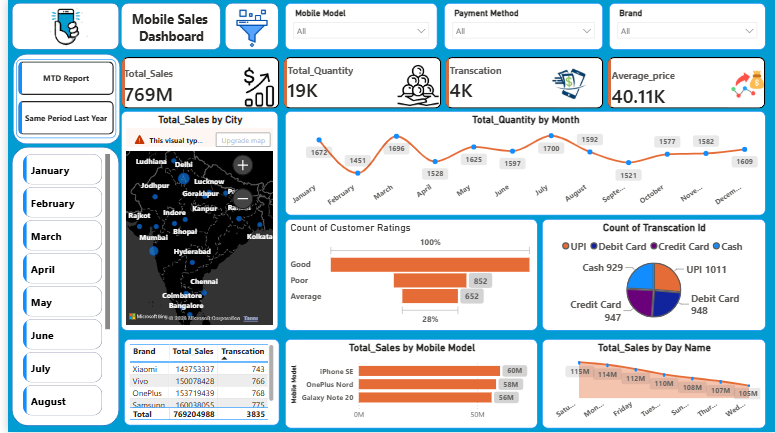

The dashboard page shown, as its layout file describes it:
{"tool":"powerbi","page":{"name":"Dashboard","canvas":[1280,720],"ordinal":0},"visuals":[{"type":"shape","box":[361.1,5.6,89.3,78],"z":0,"group":"g2"},{"type":"group","id":"g1","title":"Group 1","box":[7.1,5.7,178.6,83.6],"z":0},{"type":"shape","box":[7.1,5.7,178.6,77.7],"z":0,"group":"g1"},{"type":"image","box":[331.3,15,150.3,63.8],"z":1000,"group":"g2"},{"type":"shape","box":[8.5,89.3,178.6,150.3],"z":1000},{"type":"shape","box":[7.1,244.6,178.6,464.8],"z":1000,"group":"g4"},{"type":"image","box":[20.1,5.7,152.7,83.6],"z":1500,"group":"g1"},{"type":"cardVisual","fields":{"Data":["Mobile_sales_data.Total_Sales","Mobile_sales_data.Total_Quantity","Mobile_sales_data.Transcation","Mobile_sales_data.Average_price"]},"box":[175.8,79.4,1104.2,116.2],"z":2000},{"type":"slicer","fields":{"Values":["Mobile_sales_data.Mobile Model"]},"box":[462.1,5.7,253.7,78],"z":3000},{"type":"advancedSlicerVisual","fields":{"Values":["Custom_calendar.Date.Variation.Date Hierarchy.Month"]},"box":[20.1,250.7,155.5,452.7],"z":3000,"group":"g4"},{"type":"slicer","fields":{"Values":["Mobile_sales_data.Payment Method"]},"box":[727.2,4.3,265.1,78],"z":4000},{"type":"slicer","fields":{"Values":["Mobile_sales_data.Brand"]},"box":[1002.2,5.7,260.8,78],"z":5000},{"type":"group","id":"g2","title":"Group 3","box":[331.3,5.6,150.3,78],"z":6000},{"type":"group","id":"g3","title":"Group 4","box":[188.5,5.7,165.8,78],"z":7000},{"type":"shape","box":[188.5,5.7,165.8,78],"z":8000,"group":"g3"},{"type":"map","fields":{"Category":["Mobile_sales_data.City"],"Size":["Mobile_sales_data.Total_Sales"]},"box":[188.5,185.7,262.2,365.7],"z":8000},{"type":"textbox","box":[193.1,12.8,158.2,67.3],"z":9000,"group":"g3"},{"type":"lineChart","fields":{"Category":["Custom_calendar.Date.Variation.Date Hierarchy.Month"],"Y":["Mobile_sales_data.Total_Quantity"]},"box":[462.1,185.7,800.9,174.4],"z":9000},{"type":"funnel","title":"Count of Customer Ratings","fields":{"Category":["Mobile_sales_data.Rating status"],"Y":["CountNonNull(Mobile_sales_data.Customer Ratings)"]},"box":[461.4,365.7,421.4,185.7],"z":10000},{"type":"pieChart","title":"Count of Transcation Id","fields":{"Category":["Mobile_sales_data.Payment Method"],"Y":["Mobile_sales_data.Transcation"]},"box":[890.2,365.7,372.8,185.7],"z":11000},{"type":"barChart","fields":{"Y":["Mobile_sales_data.Total_Sales"],"Category":["Mobile_sales_data.Mobile Model"]},"box":[461.4,565.7,421.4,148.6],"z":12000},{"type":"areaChart","fields":{"Y":["Mobile_sales_data.Total_Sales"],"Category":["Custom_calendar.Day Name"]},"box":[890,565.7,372.9,148.6],"z":13000},{"type":"tableEx","fields":{"Values":["Mobile_sales_data.Brand","Mobile_sales_data.Total_Sales","Mobile_sales_data.Transcation"]},"box":[192.9,565.7,258.6,144.3],"z":14000},{"type":"group","id":"g4","title":"Group 2","box":[7.1,244.6,178.6,464.8],"z":15000},{"type":"pageNavigator","box":[12.8,97.8,167.3,131.8],"z":15001}]}

Visuals, with their boxes in screenshot pixels (x1, y1, x2, y2), scaled from the page's 1280x720 canvas onto the 775x433 screenshot:
shape: box=[219, 3, 273, 50]
"Group 1" group: box=[4, 3, 112, 54]
shape: box=[4, 3, 112, 50]
image: box=[201, 9, 292, 47]
shape: box=[5, 54, 113, 144]
shape: box=[4, 147, 112, 427]
image: box=[12, 3, 105, 54]
cardVisual - Mobile_sales_data.Total_Sales x Mobile_sales_data.Total_Quantity: box=[106, 48, 774, 118]
slicer - Mobile_sales_data.Mobile Model: box=[280, 3, 433, 50]
advancedSlicerVisual - Custom_calendar.Date.Variation.Date Hierarchy.Month: box=[12, 151, 106, 423]
slicer - Mobile_sales_data.Payment Method: box=[440, 3, 601, 49]
slicer - Mobile_sales_data.Brand: box=[607, 3, 765, 50]
"Group 3" group: box=[201, 3, 292, 50]
"Group 4" group: box=[114, 3, 215, 50]
shape: box=[114, 3, 215, 50]
map - Mobile_sales_data.City x Mobile_sales_data.Total_Sales: box=[114, 112, 273, 332]
textbox: box=[117, 8, 213, 48]
lineChart - Custom_calendar.Date.Variation.Date Hierarchy.Month x Mobile_sales_data.Total_Quantity: box=[280, 112, 765, 217]
"Count of Customer Ratings" funnel: box=[279, 220, 535, 332]
"Count of Transcation Id" pieChart: box=[539, 220, 765, 332]
barChart - Mobile_sales_data.Total_Sales x Mobile_sales_data.Mobile Model: box=[279, 340, 535, 430]
areaChart - Mobile_sales_data.Total_Sales x Custom_calendar.Day Name: box=[539, 340, 765, 430]
tableEx - Mobile_sales_data.Brand x Mobile_sales_data.Total_Sales: box=[117, 340, 273, 427]
"Group 2" group: box=[4, 147, 112, 427]
pageNavigator: box=[8, 59, 109, 138]
